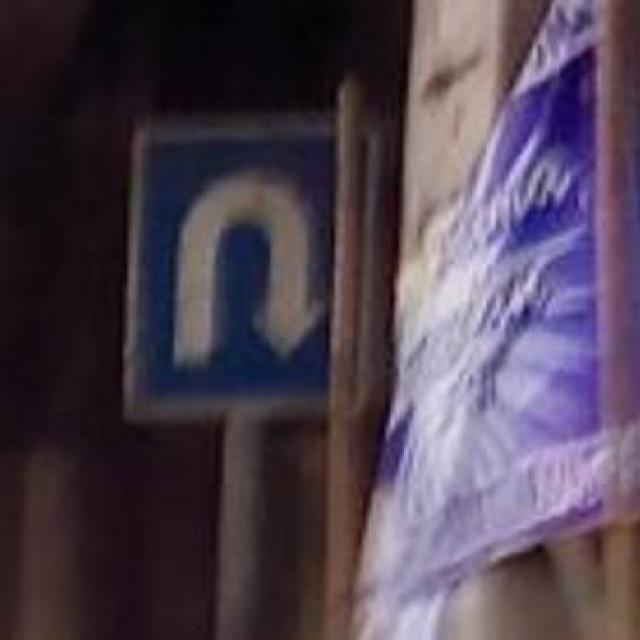traffic sign: (135, 119, 325, 410)
